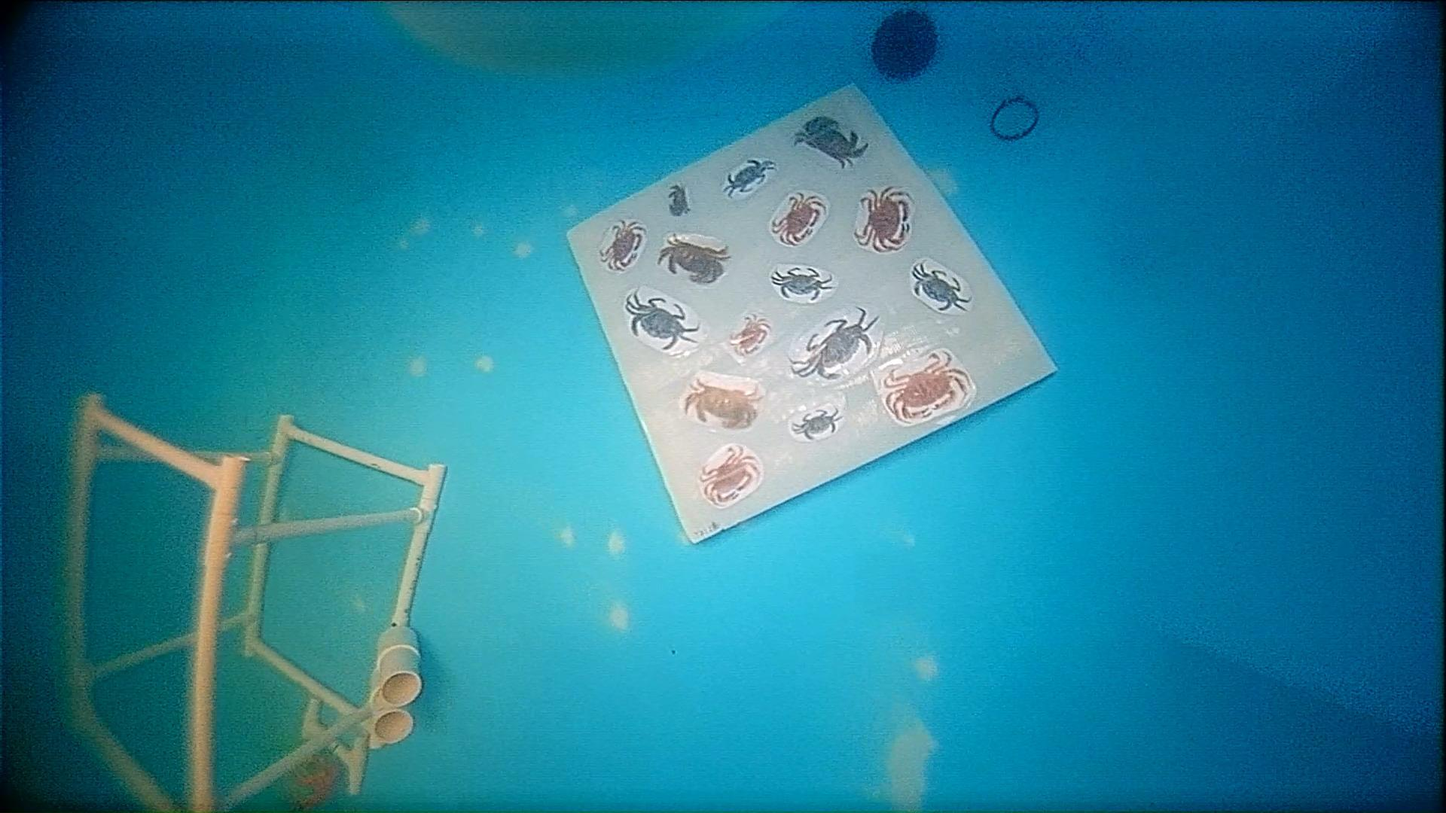GreenCrab: (791, 307, 878, 379), (625, 294, 700, 350), (721, 159, 776, 198), (791, 409, 838, 440)
